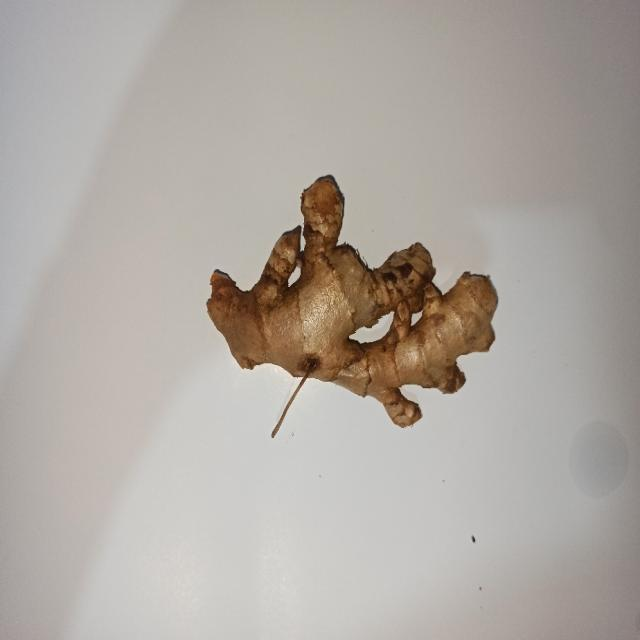ginger: (206, 179, 500, 430)
